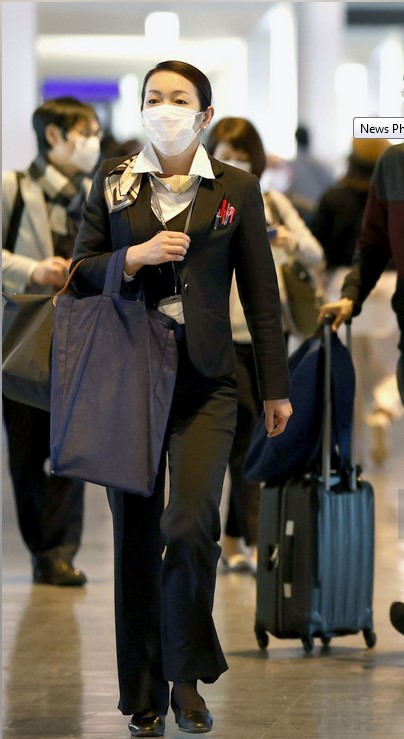face_with_mask: (137, 60, 216, 159), (33, 97, 105, 177), (207, 117, 266, 185)
